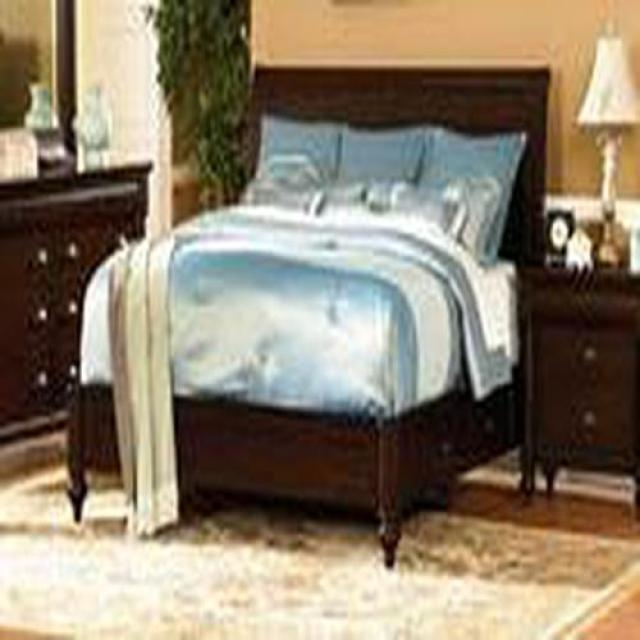bed: (68, 68, 550, 568)
